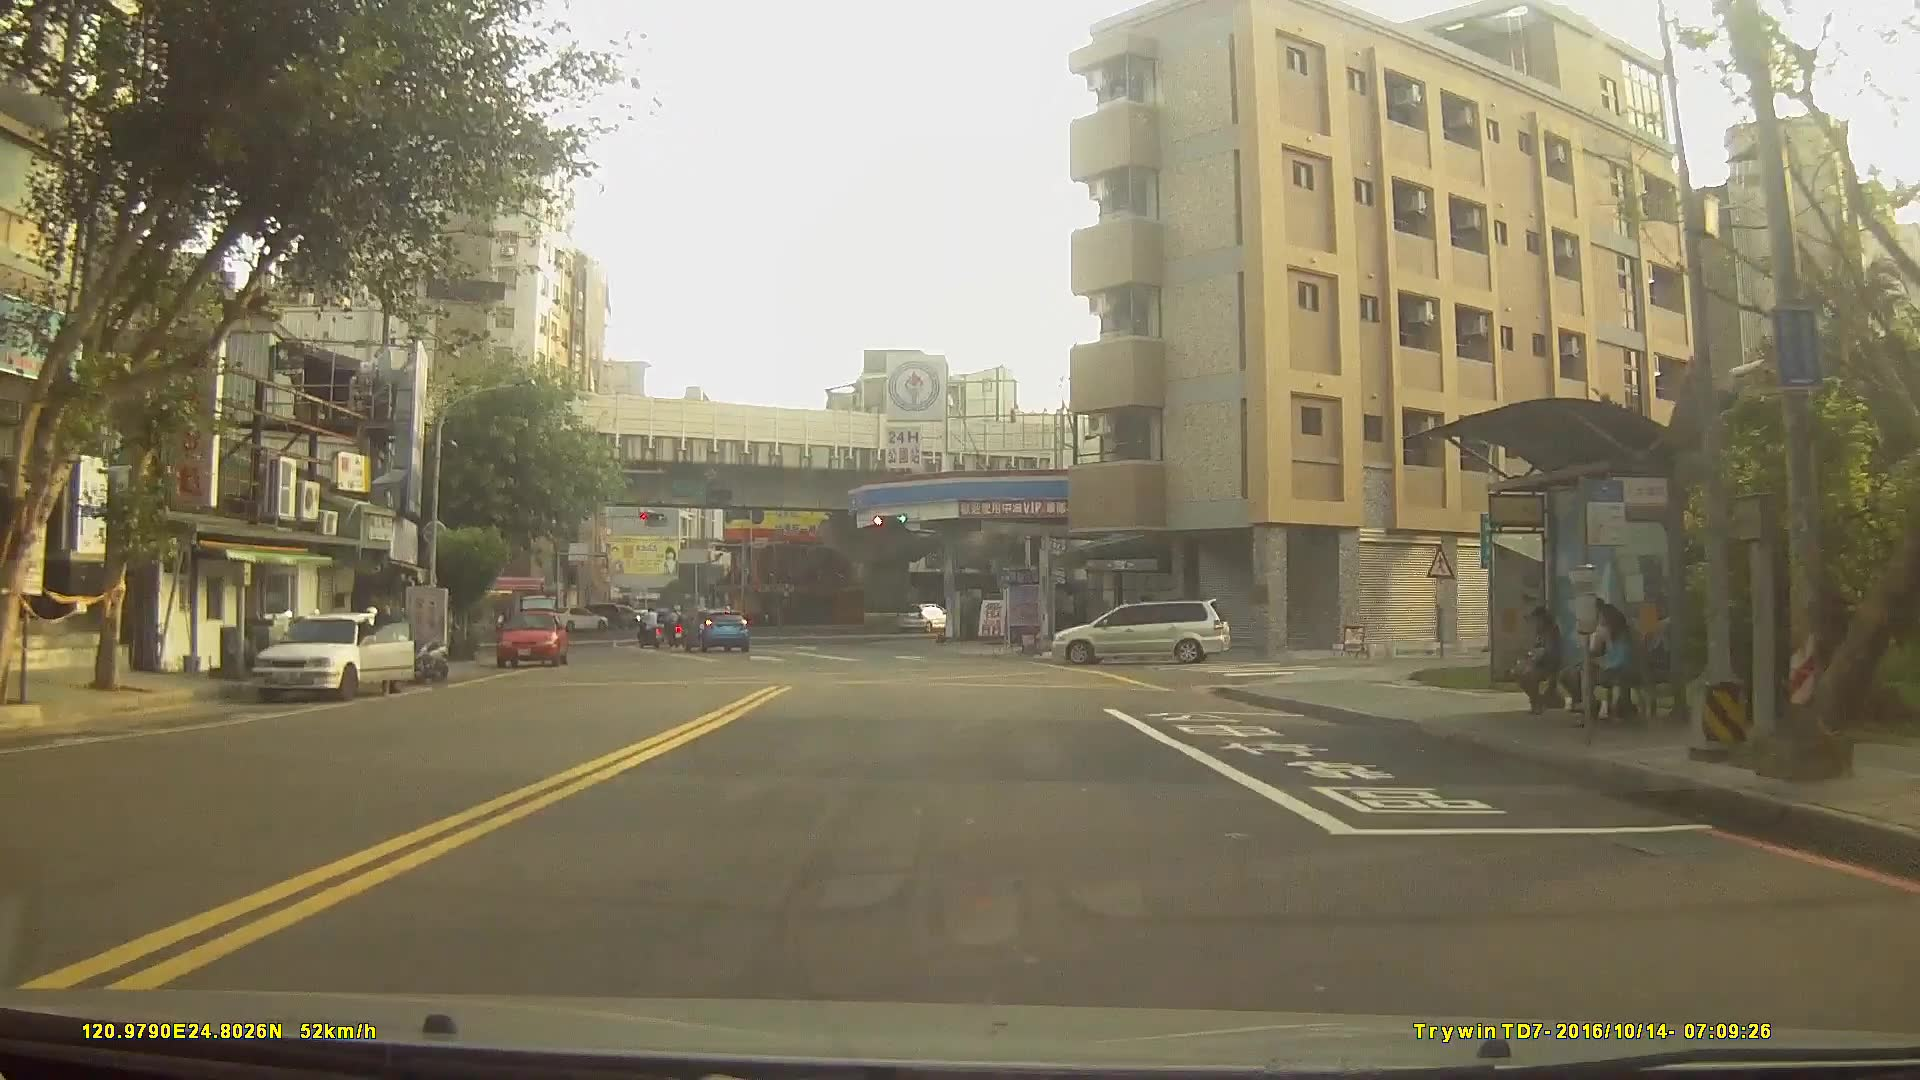pedestrian: (1513, 607, 1571, 713), (1591, 595, 1625, 727)
rider: (635, 605, 665, 650)
vehicle: (246, 609, 417, 702), (1046, 599, 1232, 664), (492, 605, 566, 664), (678, 609, 751, 654), (893, 599, 951, 630), (543, 604, 608, 631), (566, 601, 624, 631)
